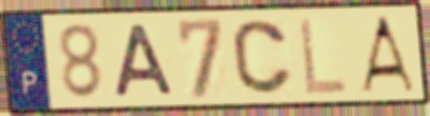7: (173, 16, 226, 101)
8: (56, 22, 104, 101)
A: (355, 13, 418, 94), (112, 22, 177, 99)
C: (229, 17, 296, 96)
L: (297, 15, 350, 98)
